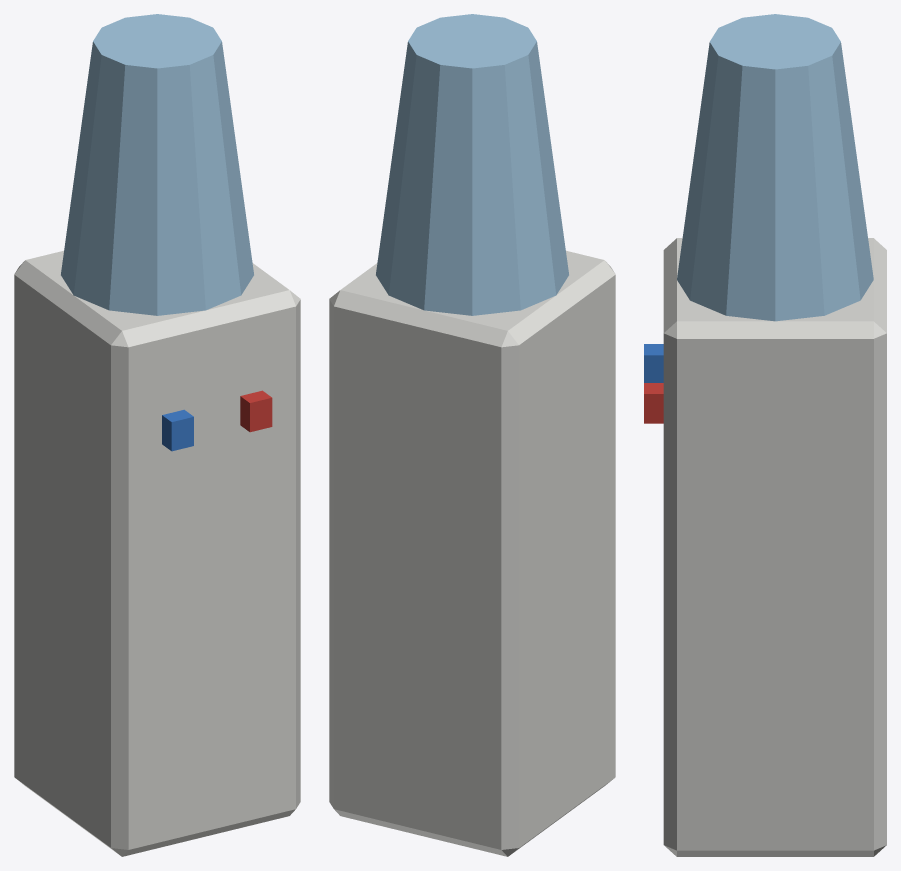
File: cooler.glb
The picture shows the model from 3 angles, left to right: view 1: azimuth 30°, elevation 25°; view 2: azimuth 150°, elevation 25°; view 3: azimuth 270°, elevation 25°; orthographic projection.
Parts seen in each view (by area): view 1: cooler_mesh; view 2: cooler_mesh; view 3: cooler_mesh.
Part boxes in pixels (<box>): cooler_mesh: <box>14,14,300,856</box>; cooler_mesh: <box>329,14,615,856</box>; cooler_mesh: <box>644,14,886,856</box>.
Size of the model in its own units: 0.34 by 1.3 by 0.37.
